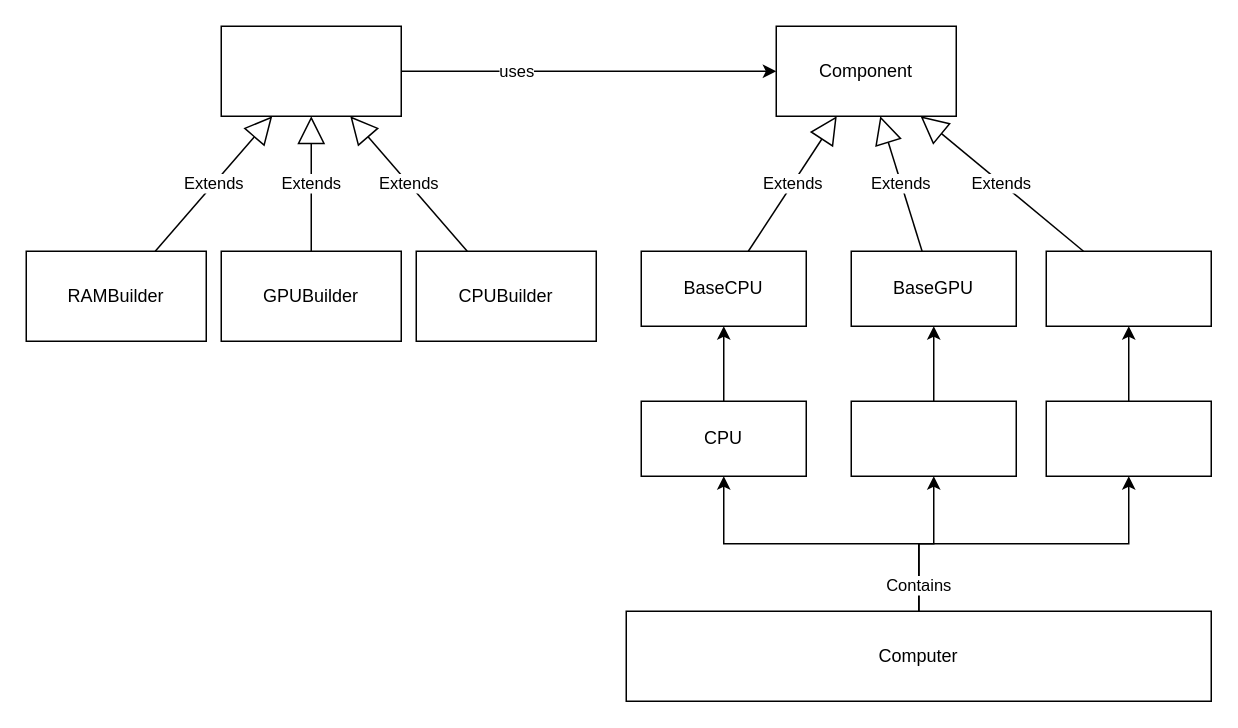
This 1238x728 diagram has some shape labels left out. Each missing label, with the centre of its shape:
"BaseRAM" goes at point (1128, 288).
"ComponentBuilder" goes at point (310, 70).
"GPU" goes at point (933, 438).
"RAM" goes at point (1128, 438).
